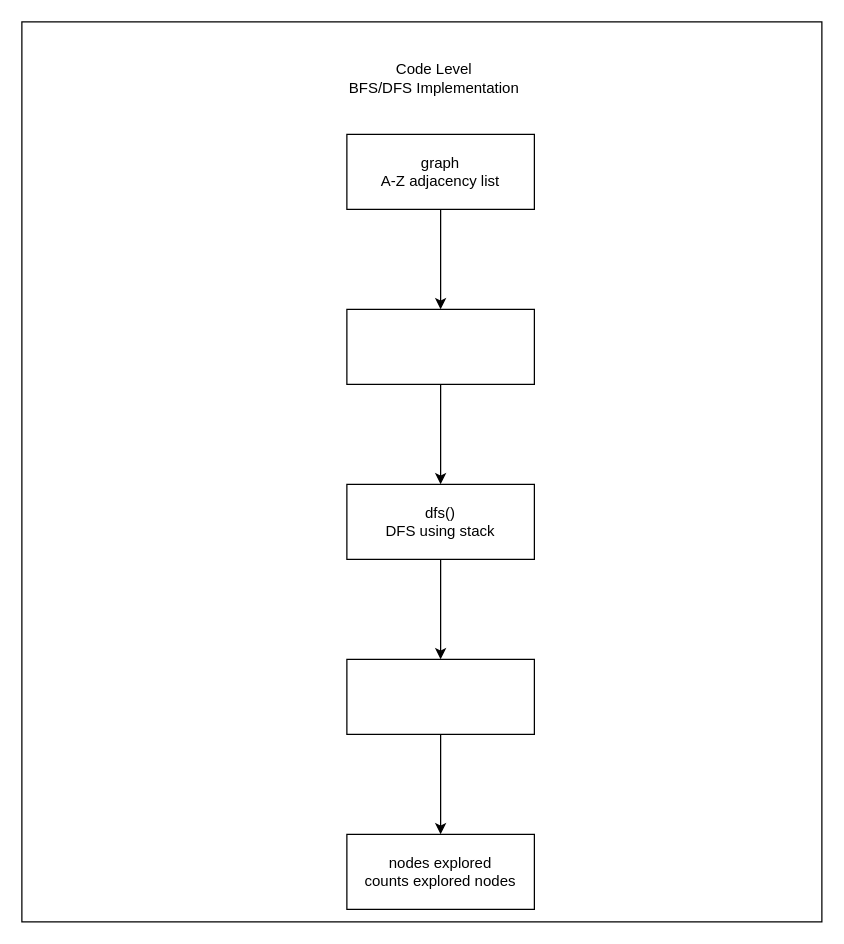
This 844x944 diagram has some shape labels left out. Each missing label, with the centre of its shape:
"bfs() BFS using queue" goes at point 440,346.
"visited set of visited nodes" goes at point 440,696.
